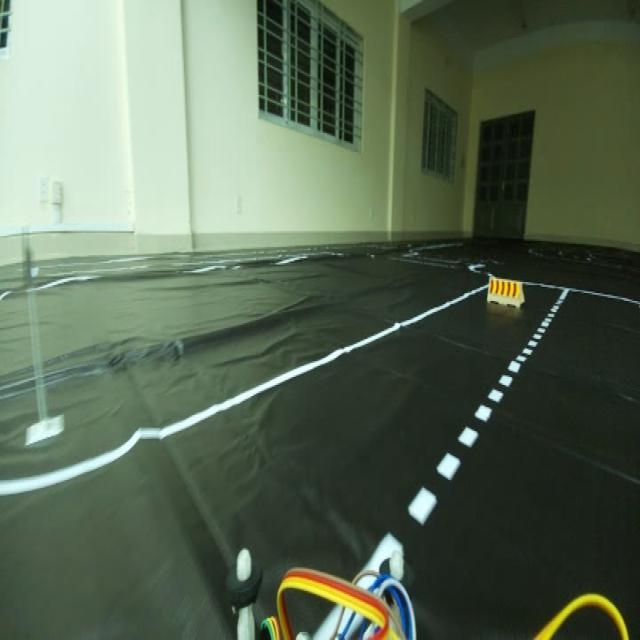roadblock: (482, 269, 522, 306)
